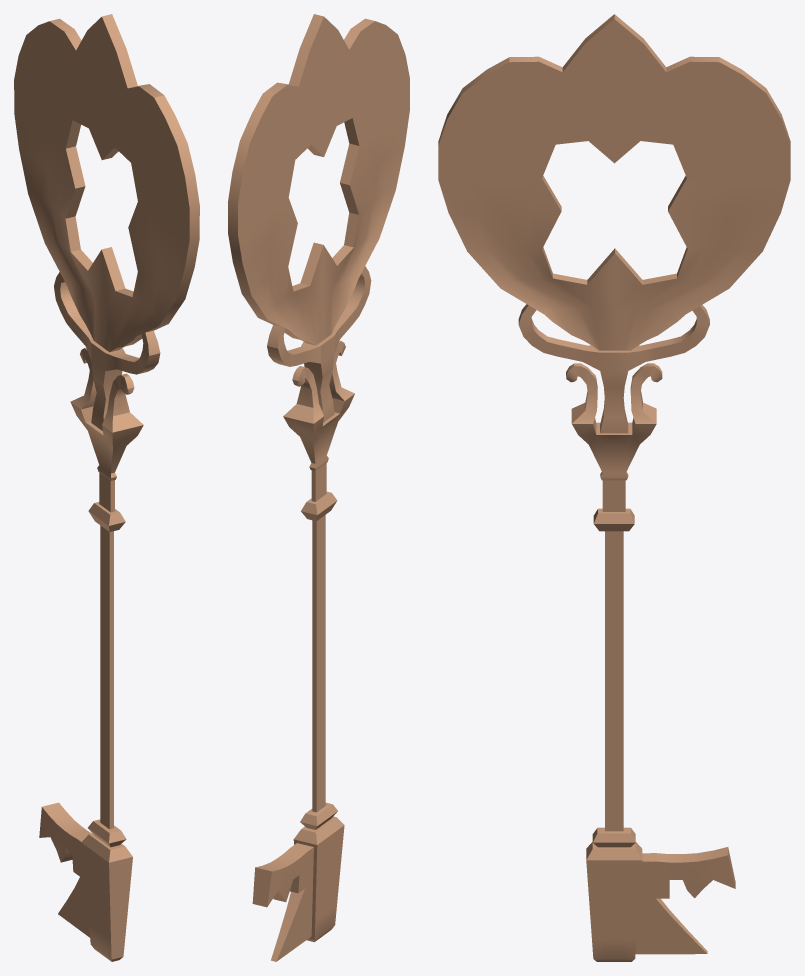
The model's file is llave2.fbx.
3 views of the same model, side by side, from view 1: azimuth 30°, elevation 25°; view 2: azimuth 150°, elevation 25°; view 3: azimuth 270°, elevation 25° (orthographic). The views are drawn at different scales.
Parts seen in each view (by area): view 1: Cube.003; view 2: Cube.003; view 3: Cube.003.
Part boxes in pixels (x1=…): Cube.003: x1=14, y1=14, x2=199, y2=961; Cube.003: x1=228, y1=14, x2=409, y2=961; Cube.003: x1=438, y1=14, x2=790, y2=961.
Size of the model in its own units: 1.43 by 41.12 by 13.92.
